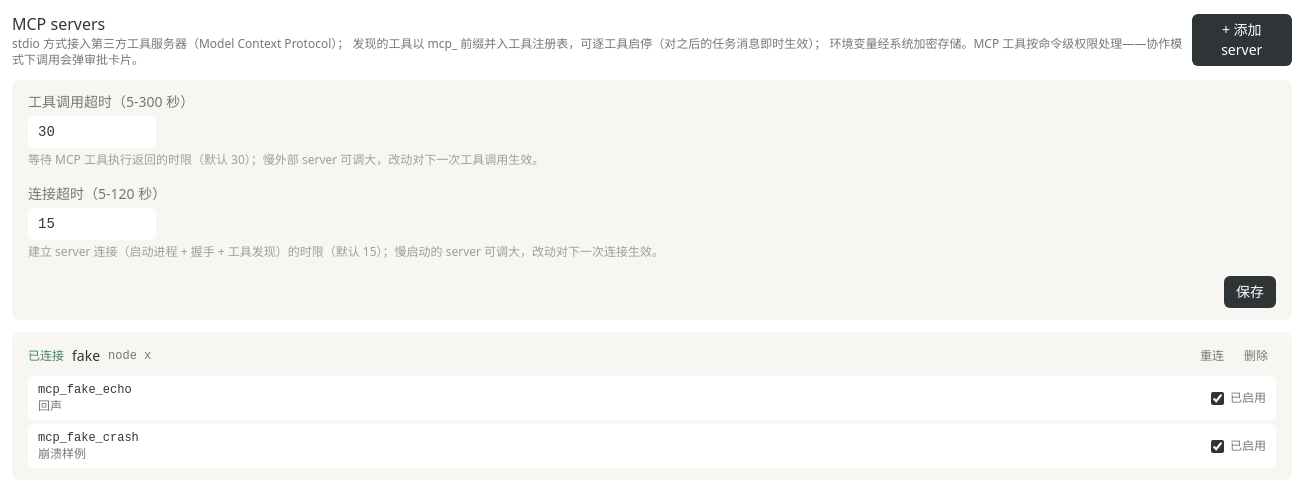
Test: 逐工具启停乐观更新 › 禁用→再启用同口径：点击瞬间同步勾回，往返后保持
Click the checkbox with test id "mcp-tool-toggle-mcp_fake_crash" at (1218, 446), box [1211,440,1224,452]
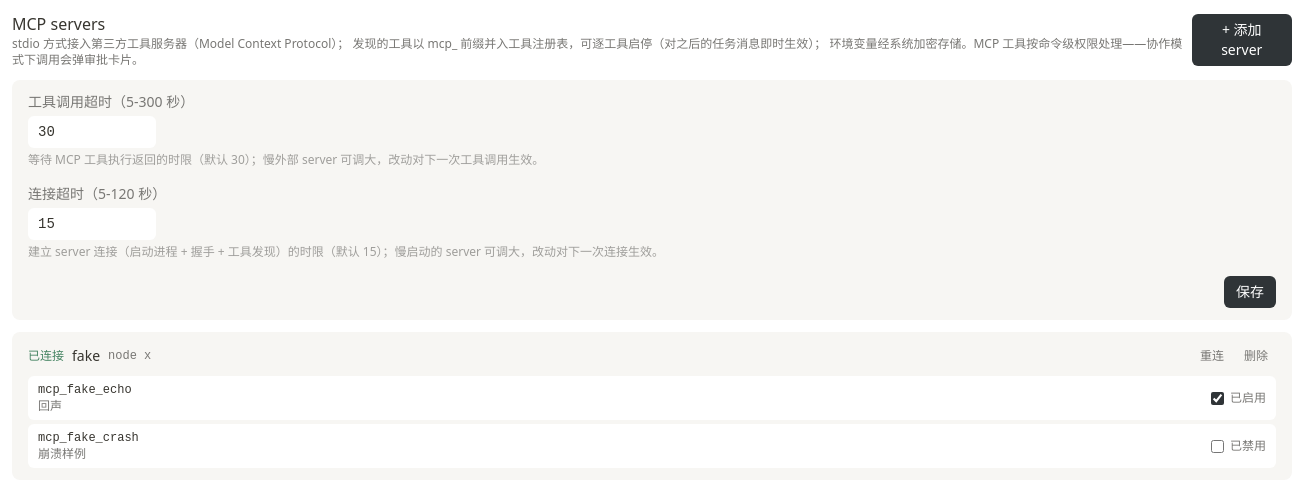
Now the checkbox with test id "mcp-tool-toggle-mcp_fake_crash" is not checked
Click the checkbox with test id "mcp-tool-toggle-mcp_fake_crash" at (1218, 446), box [1211,440,1224,452]
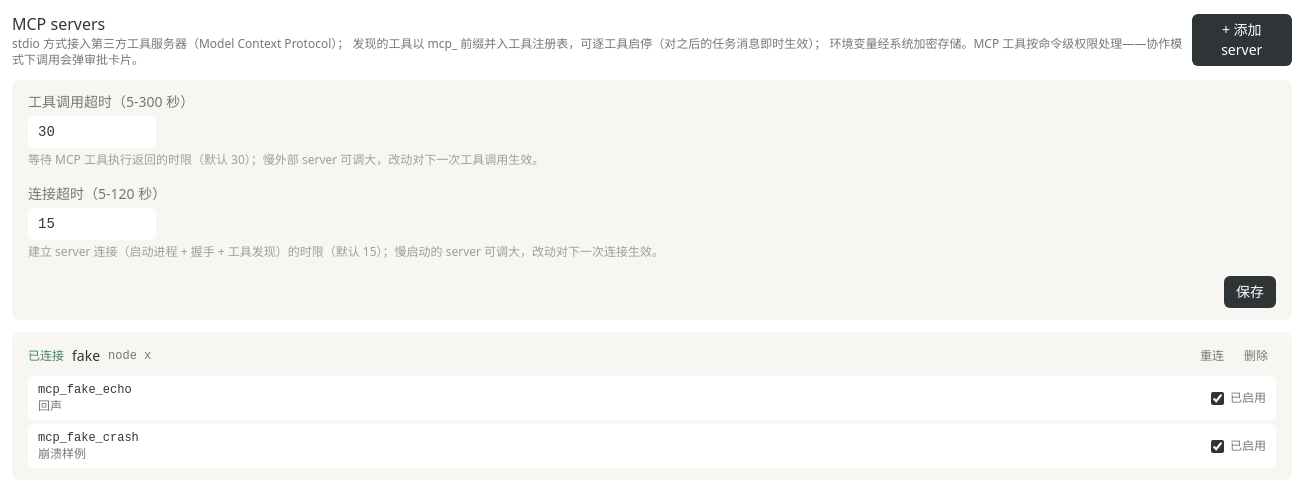
Now the checkbox with test id "mcp-tool-toggle-mcp_fake_crash" is checked, box [1211,440,1224,452]
Now the label with test id "mcp-tool-toggle-mcp_fake_crash" reads "已启用", box [1230,437,1266,454]
